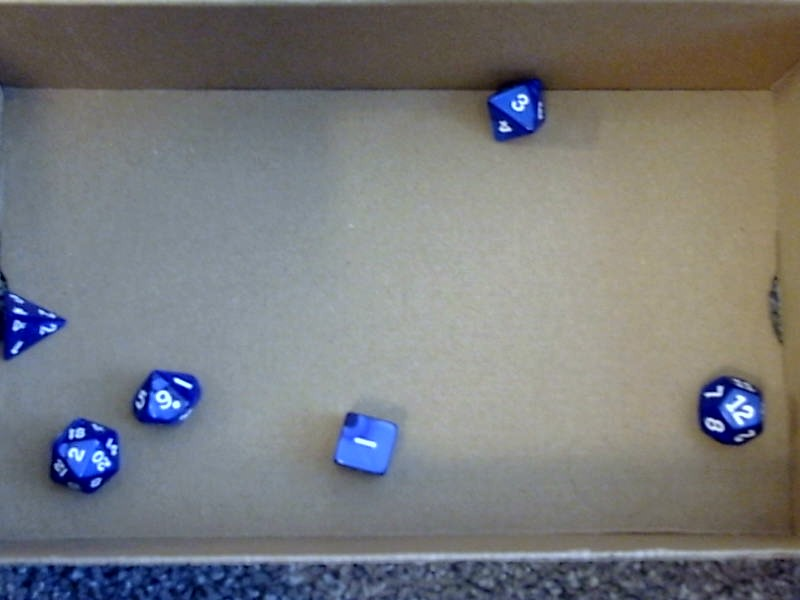d10 9: (127, 357, 212, 428)
d12 12: (693, 370, 768, 447)
d20 2: (46, 418, 125, 498)
d4 4: (0, 279, 75, 366)
d6 1: (320, 403, 404, 481)
d8 3: (483, 75, 550, 149)
